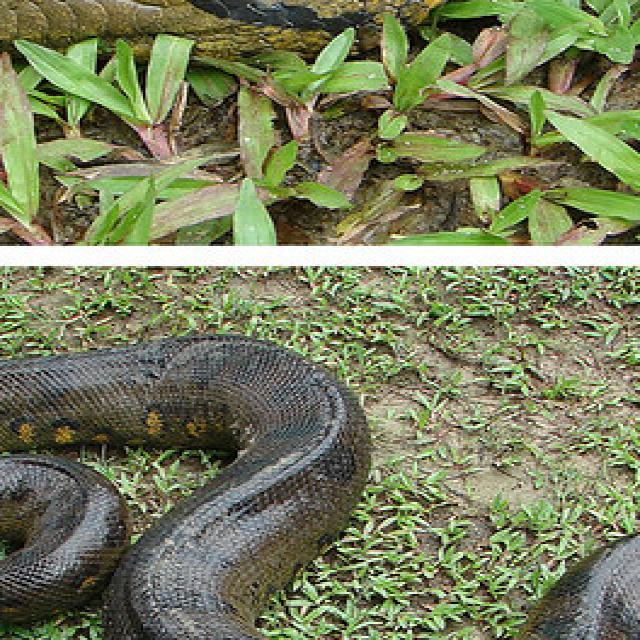Snake: (0, 330, 640, 640)
